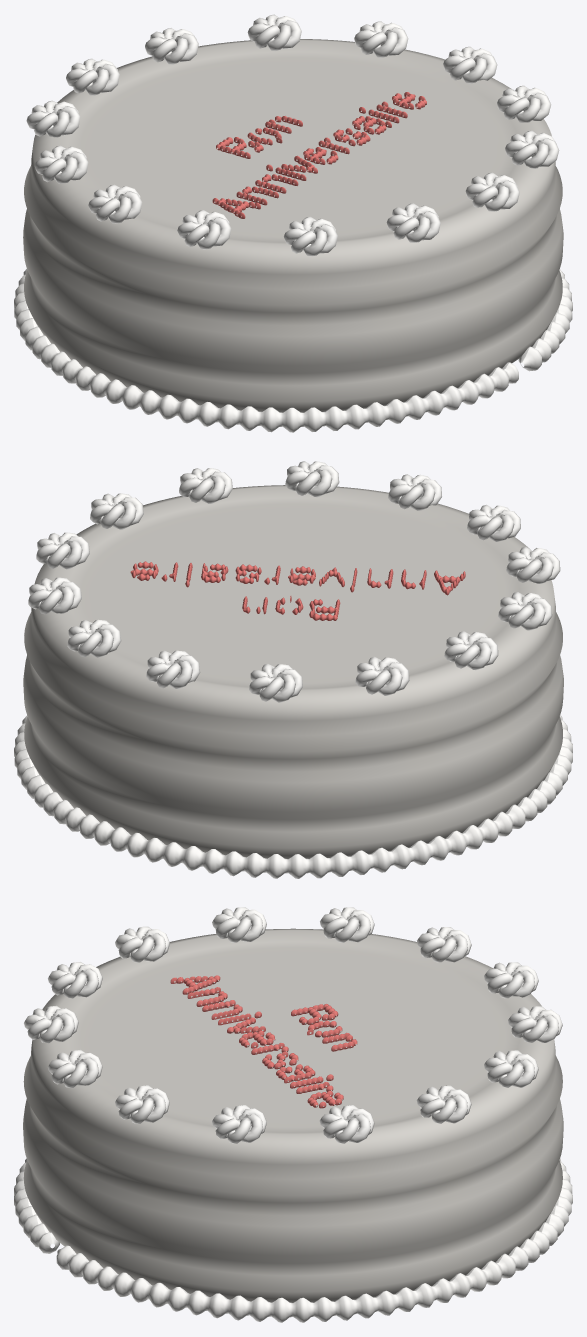
Rendered from cake.glb.
3 renders of one model, top to bottom at view 1: azimuth 30°, elevation 25°; view 2: azimuth 150°, elevation 25°; view 3: azimuth 270°, elevation 25°, orthographic.
Bounding box in the file's own units: 0.2644 × 0.1034 × 0.2643.
